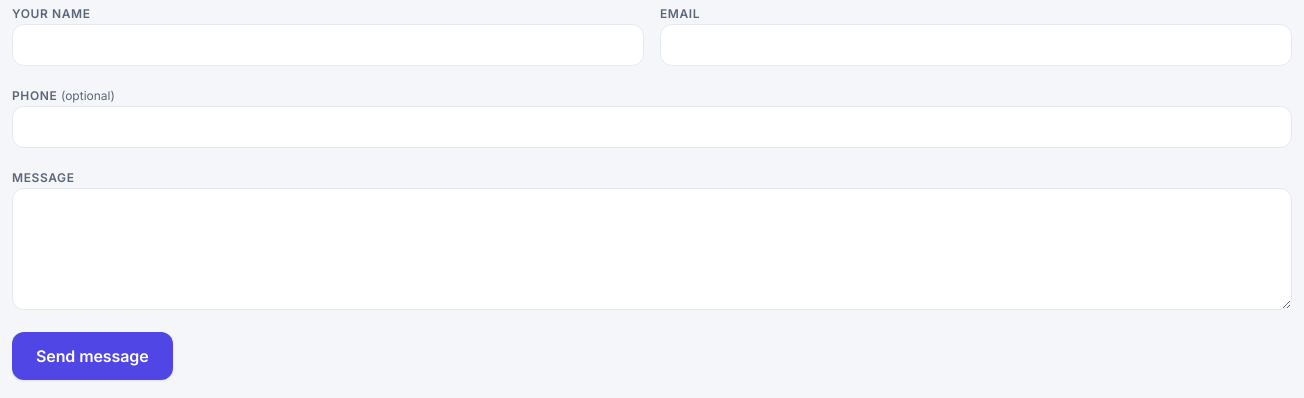
Test: ContactForm › posts the trimmed values to the public endpoint without credentials, then confirms
The image size is (1304, 398).
Type "  Ravi Kumar " into the field labelled "Your name".
click(328, 45); type("  Ravi Kumar ")  # box x1=12 y1=24 x2=644 y2=66
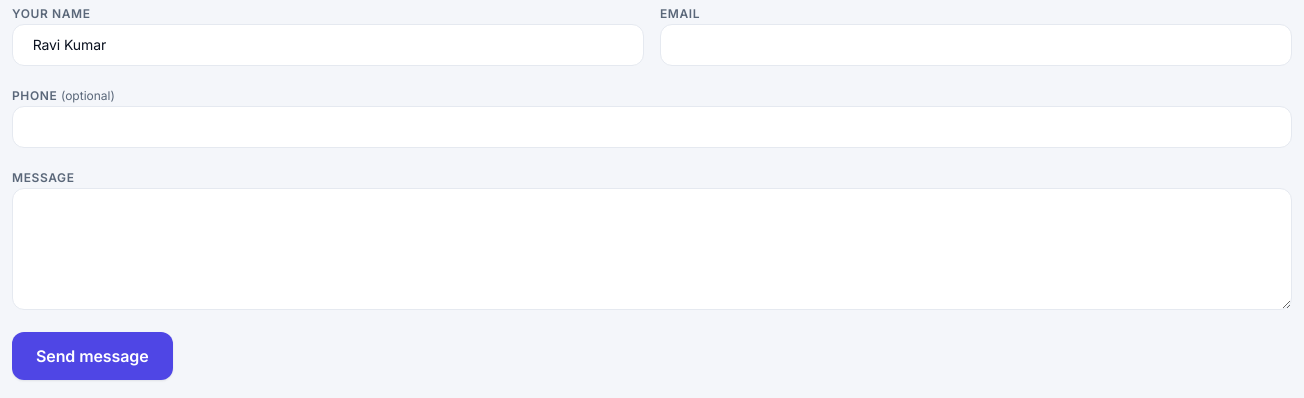
Type "ravi@example.com" into the field labelled "Email".
click(976, 45); type("ravi@example.com")  # box x1=660 y1=24 x2=1292 y2=66
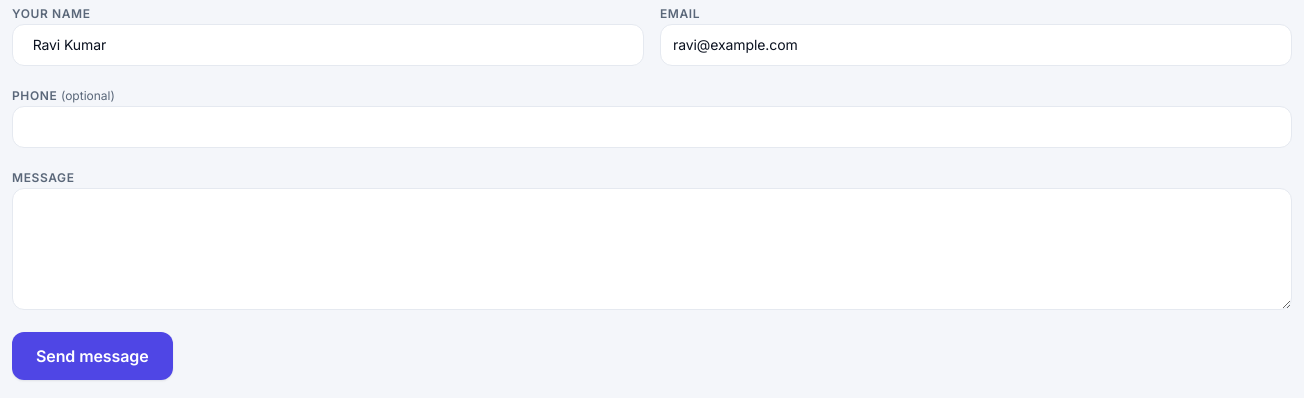
Type "+91 98765 43210" into the field labelled "Phone (optional)".
click(652, 127); type("+91 98765 43210")  # box x1=12 y1=106 x2=1292 y2=148
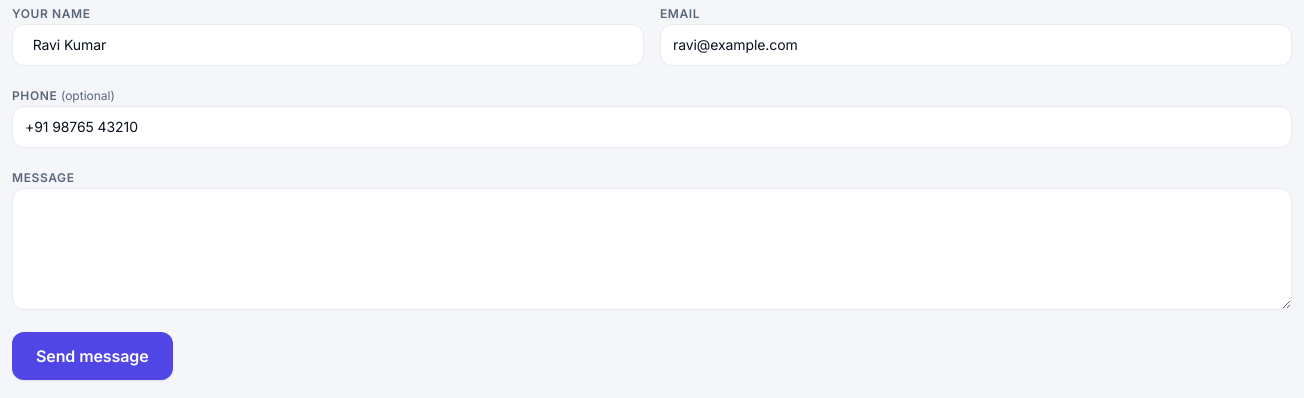
Type "I run a 60-bed PG in Hyderabad and would like early access." into the text box labelled "Message".
click(652, 249); type("I run a 60-bed PG in Hyderabad and would like early access.")  # box x1=12 y1=188 x2=1292 y2=310
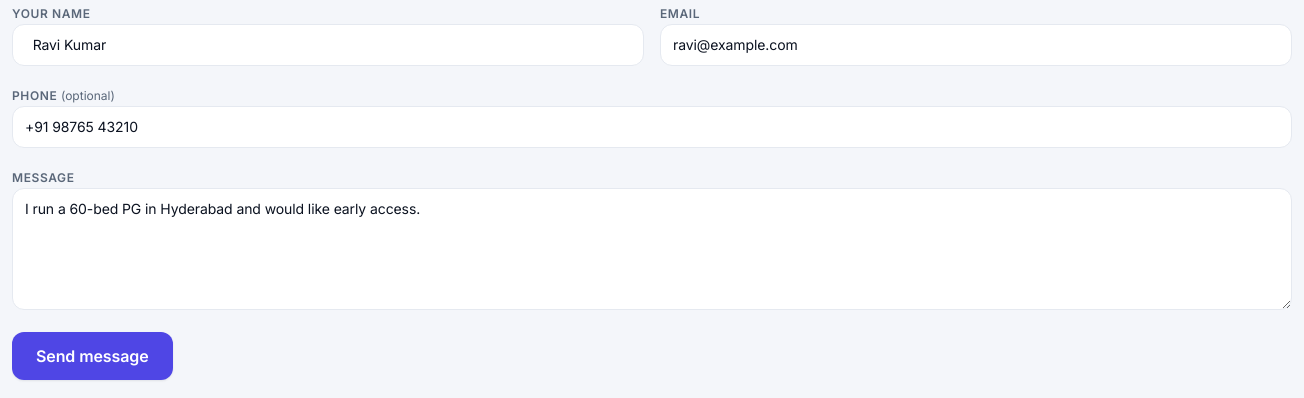
Click the button "Send message".
click(92, 356)  # box x1=12 y1=332 x2=173 y2=380
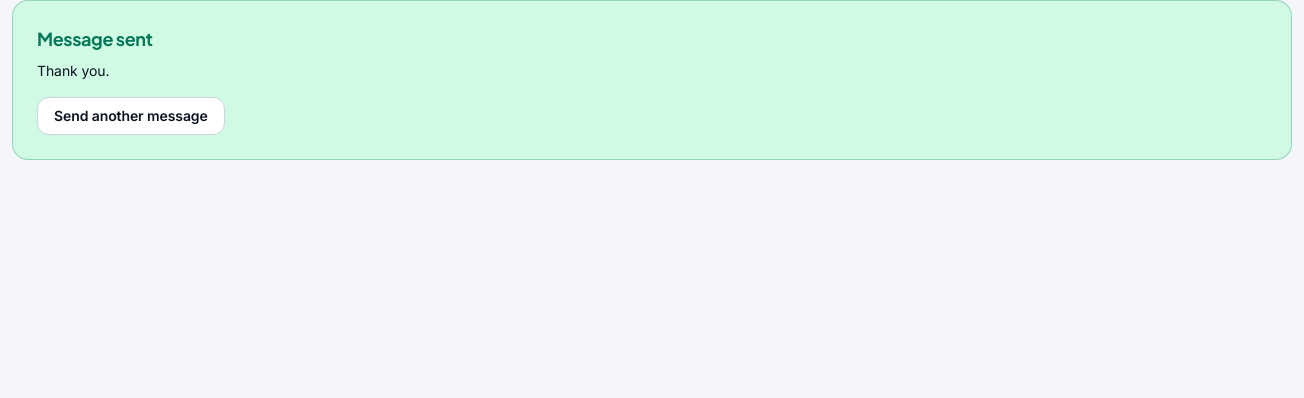
Now the message "Message sent Thank you. Send another message" is shown, box x1=12 y1=0 x2=1292 y2=160
Now the heading "Message sent" is shown, box x1=37 y1=27 x2=153 y2=50
